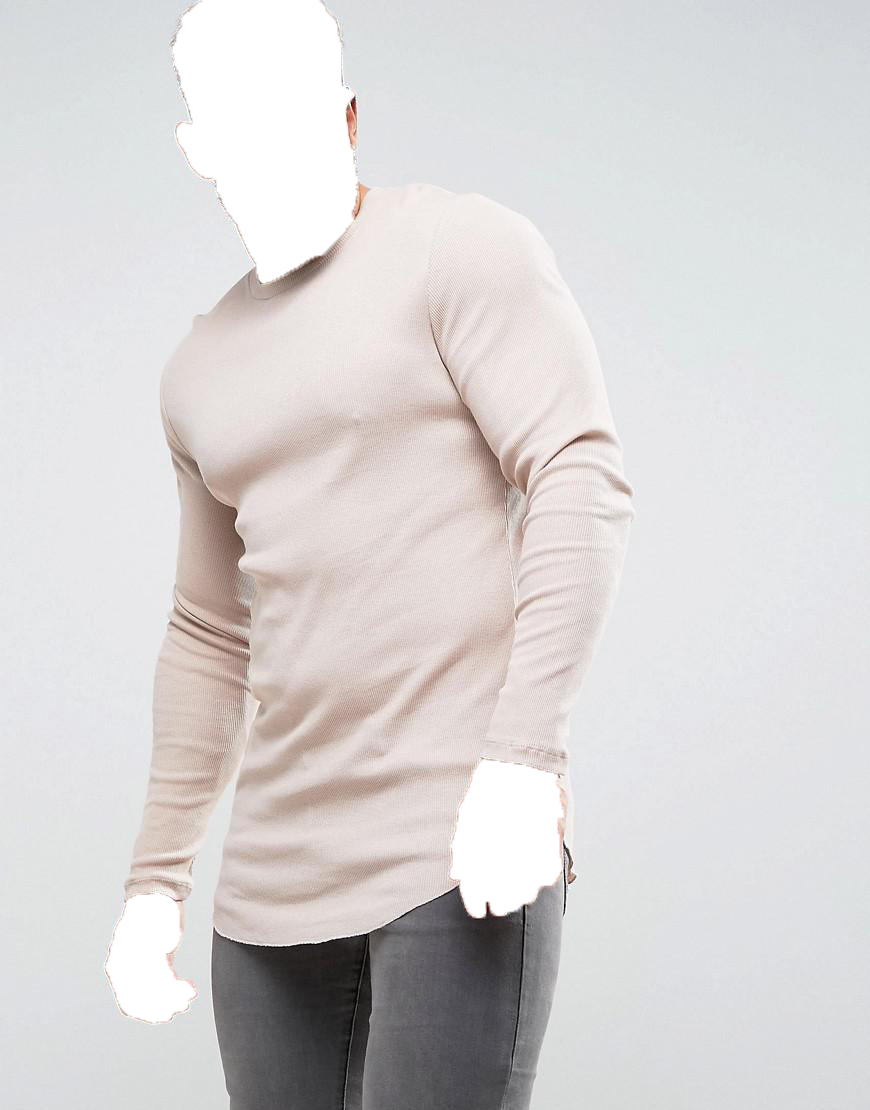teeshirt: (93, 193, 657, 944)
